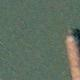ship: (62, 20, 78, 77)
